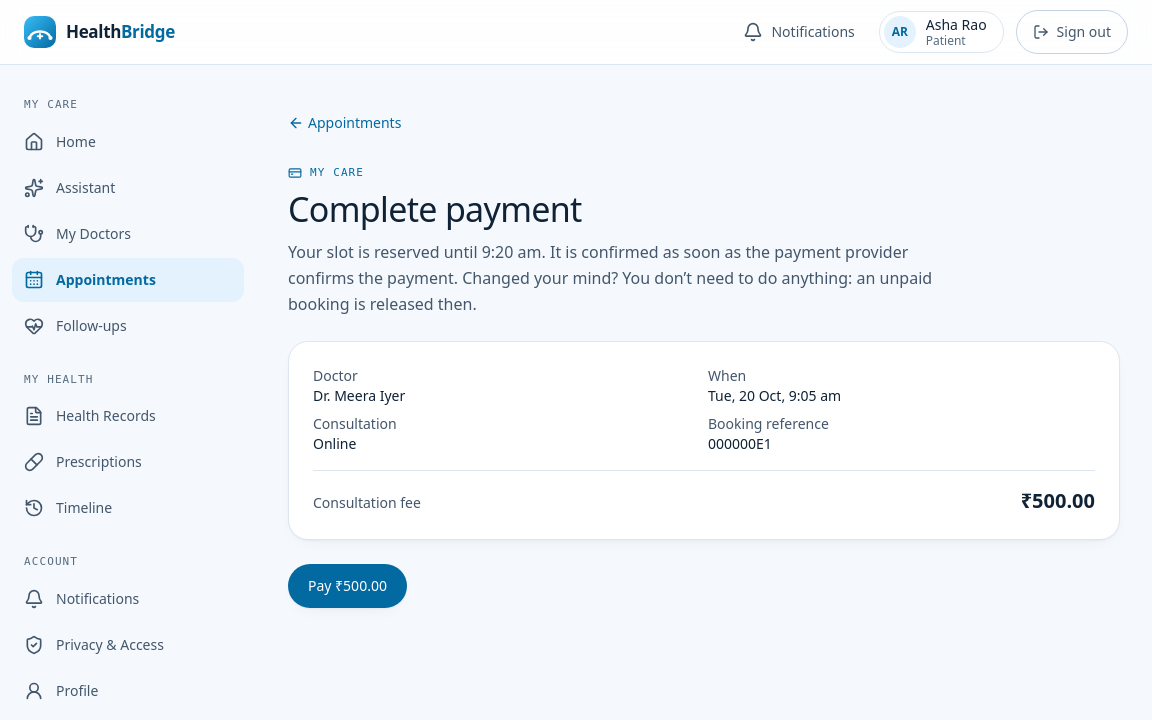
payment › explains a payment provider outage and an expired reservation
What coordinates should you click on to do the following:
click the button "Pay ₹500.00"
I would click on:
 (347, 586)
Its box is top-left (288, 564), bottom-right (407, 608).
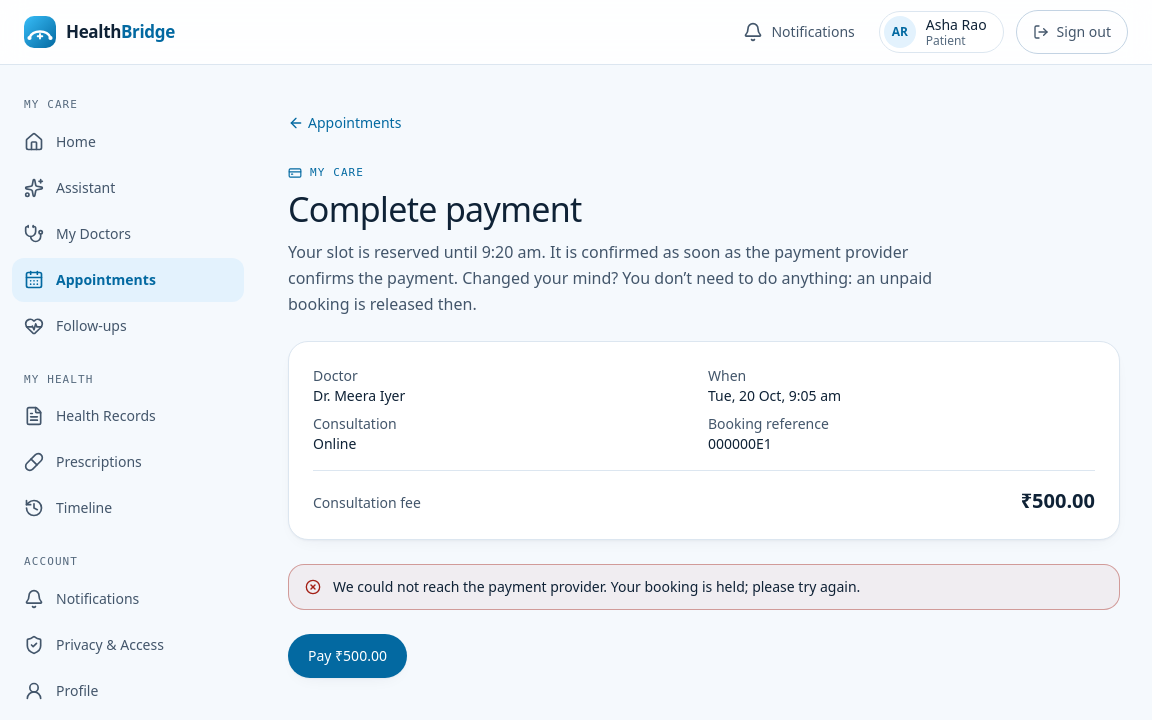
Expected: the text "booking is held" is shown, top-left (333, 577), bottom-right (860, 596)
